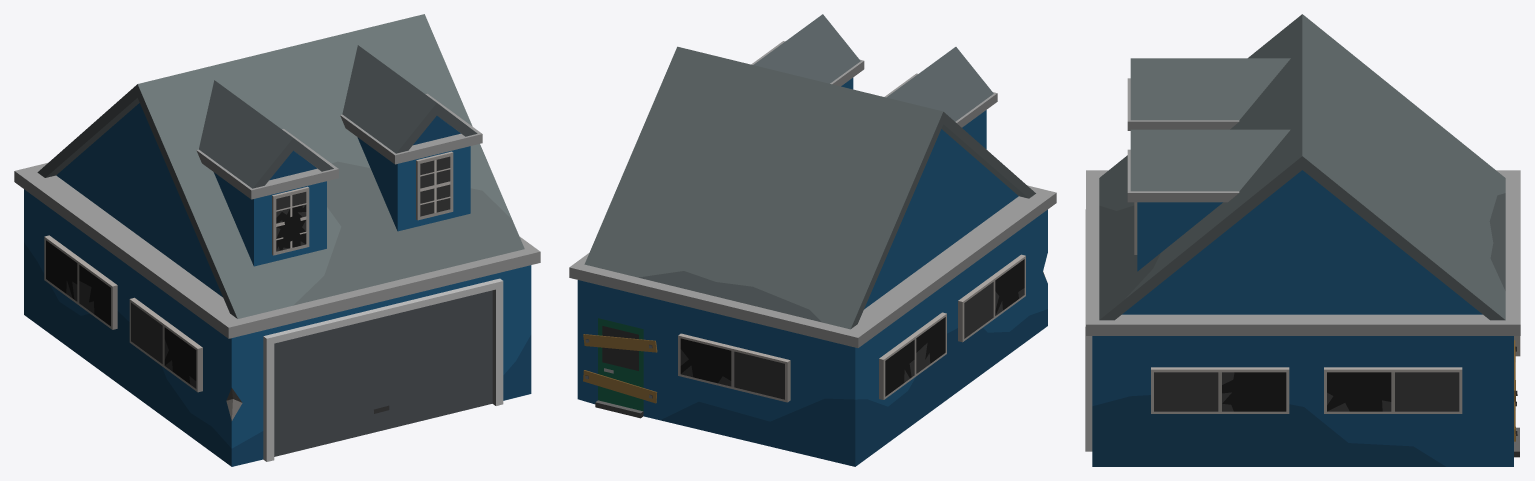
The model's file is SA_Bld_HouseGarage_Damaged_03.gltf.
The picture shows the model from 3 angles, left to right: view 1: azimuth 30°, elevation 25°; view 2: azimuth 150°, elevation 25°; view 3: azimuth 270°, elevation 25°; orthographic projection. The views are drawn at different scales.
Parts seen in each view (by area): view 1: SA_Bld_HouseGarage_Damaged_03; view 2: SA_Bld_HouseGarage_Damaged_03; view 3: SA_Bld_HouseGarage_Damaged_03.
Boxes of the visible parts, bbox=[...] form: SA_Bld_HouseGarage_Damaged_03: bbox=[14, 14, 540, 466]; SA_Bld_HouseGarage_Damaged_03: bbox=[569, 14, 1056, 466]; SA_Bld_HouseGarage_Damaged_03: bbox=[1085, 14, 1520, 466].
Size of the model in its own units: 12.37 by 11.61 by 14.74.
1 material, 1 textured.
